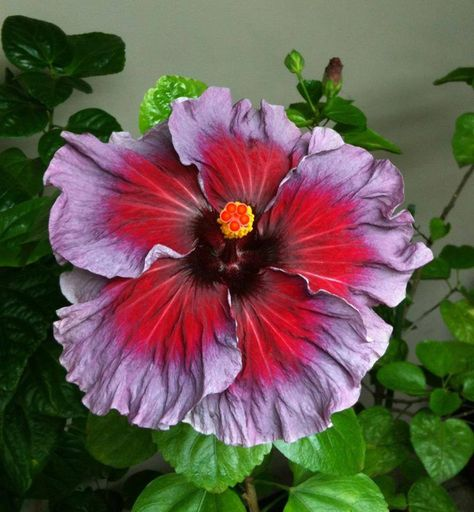Hibiscus: (43, 72, 425, 453)
